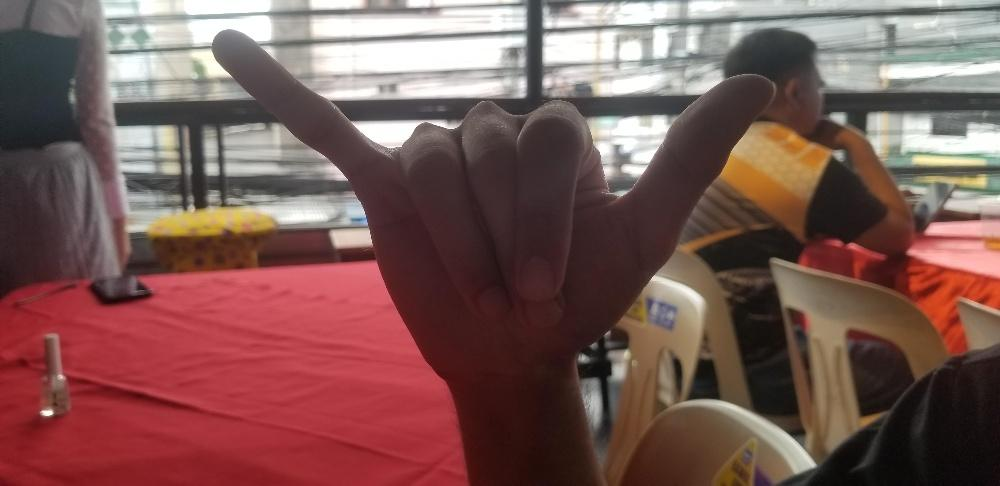y: (211, 26, 775, 366)
